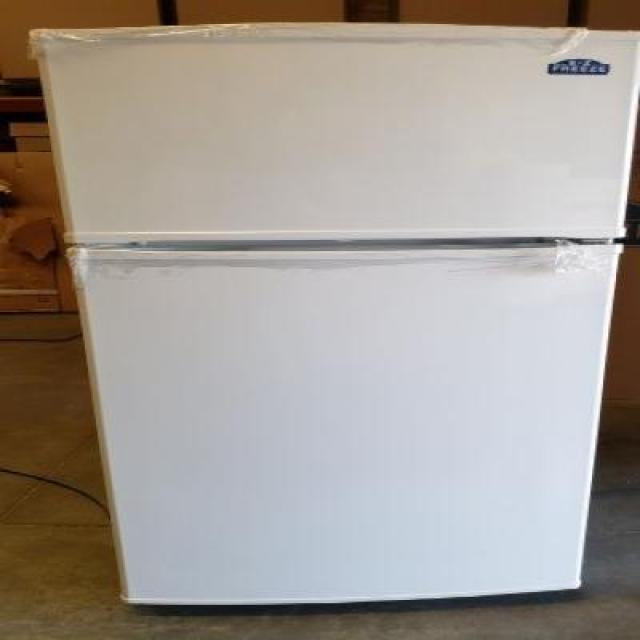refrigerator: (30, 26, 640, 602)
